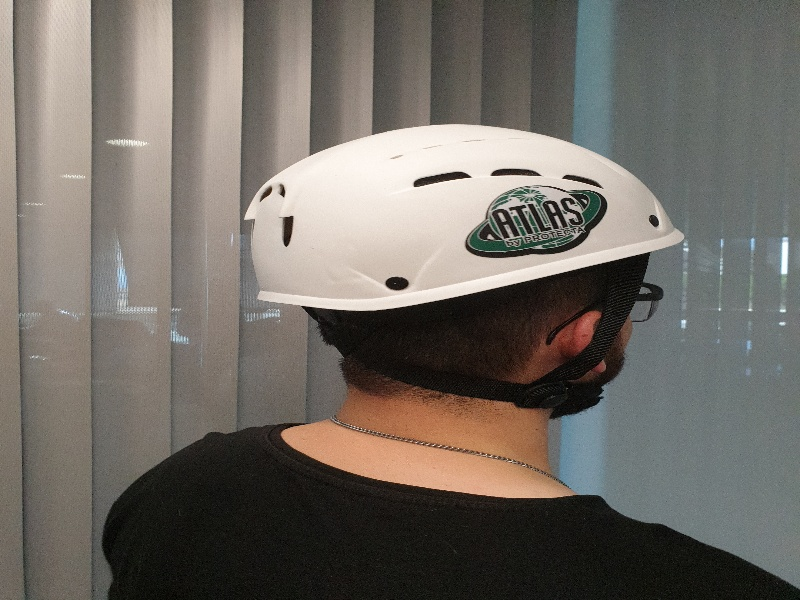Baret: (249, 122, 683, 298)
